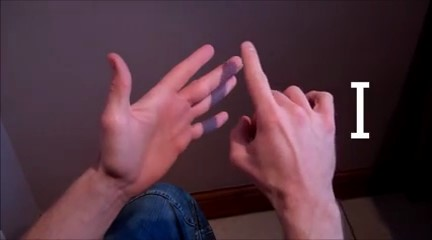I: (84, 31, 346, 207)
